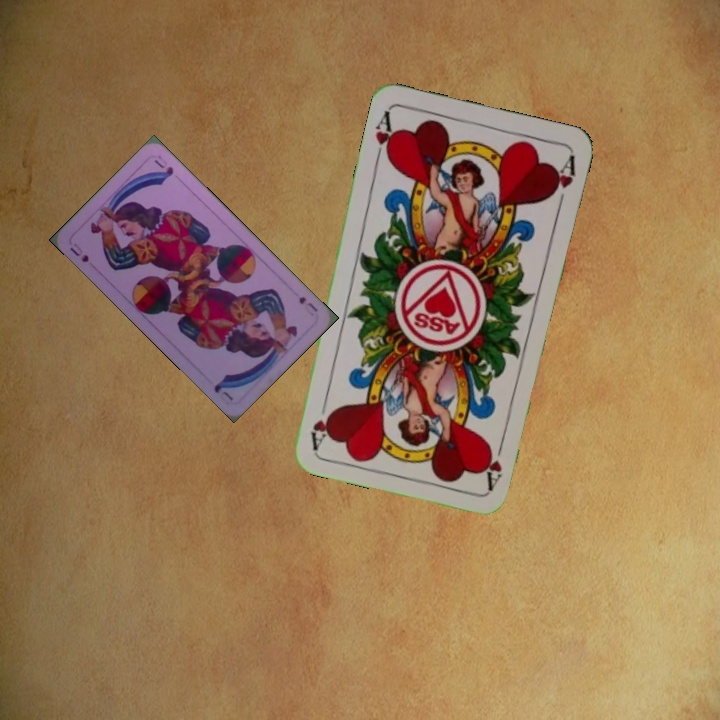HA: (371, 106, 399, 165), (481, 432, 507, 491)
SU: (66, 239, 92, 265), (295, 292, 321, 314)
